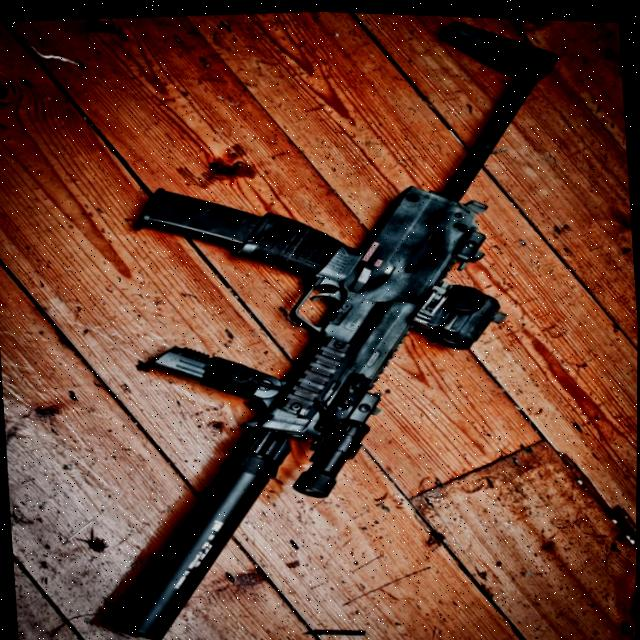firearm: (56, 2, 601, 640)
